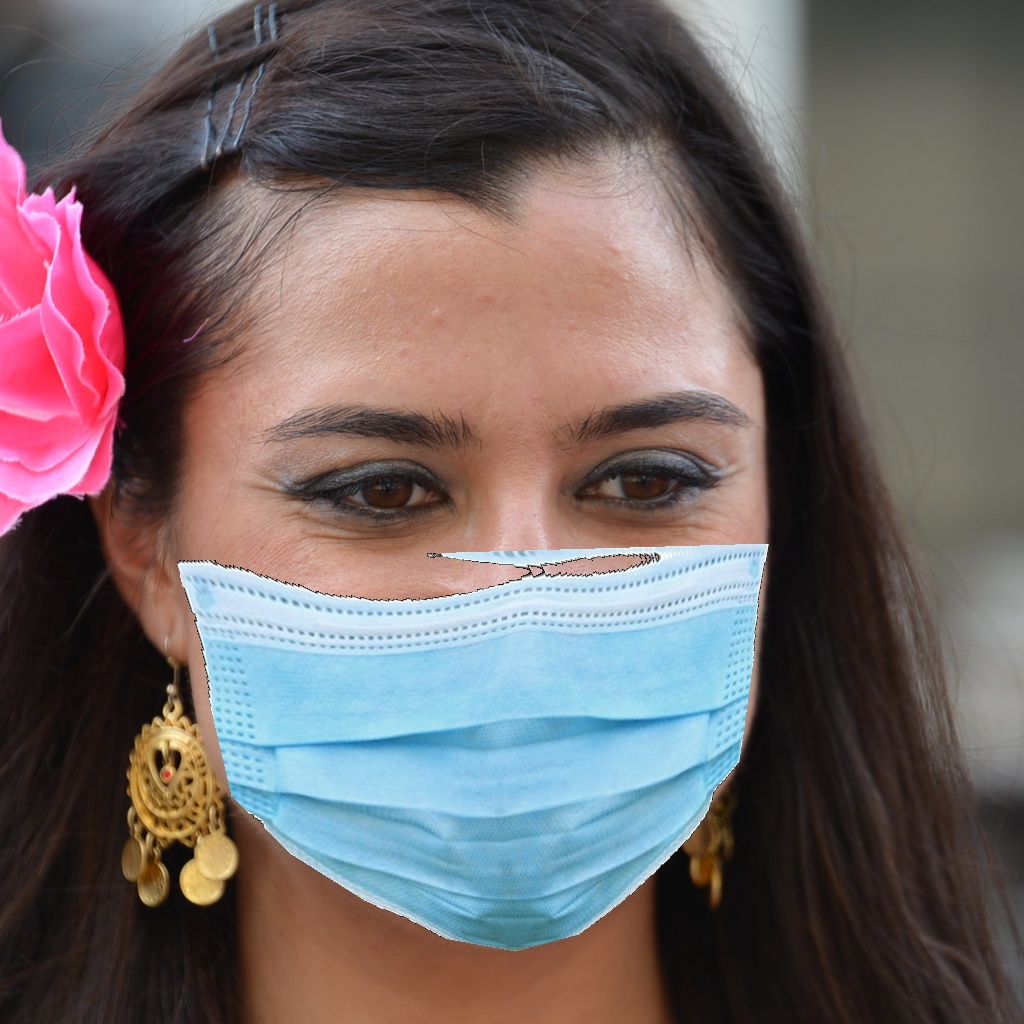Mask: (177, 342, 780, 953)
